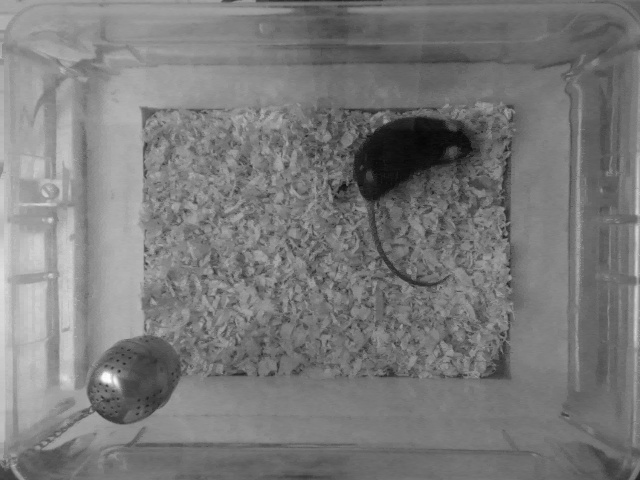mice: (347, 112, 473, 286)
